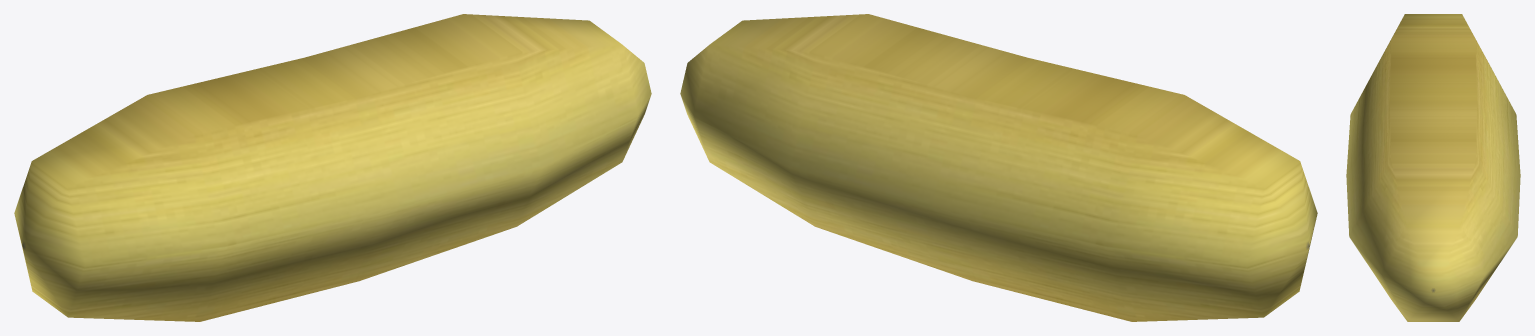
File: OBJ_timun_mas.fbx
3 views of the same model, side by side, from view 1: azimuth 30°, elevation 25°; view 2: azimuth 150°, elevation 25°; view 3: azimuth 270°, elevation 25° (orthographic). The views are drawn at different scales.
Parts seen in each view (by area): view 1: Sphere.003; view 2: Sphere.003; view 3: Sphere.003.
Boxes of the visible parts, x1,y1,x2,y2 form: Sphere.003: (14, 14, 651, 321); Sphere.003: (680, 14, 1317, 321); Sphere.003: (1346, 14, 1520, 321).
Bounding box in the file's own units: 501 × 147 × 150.
